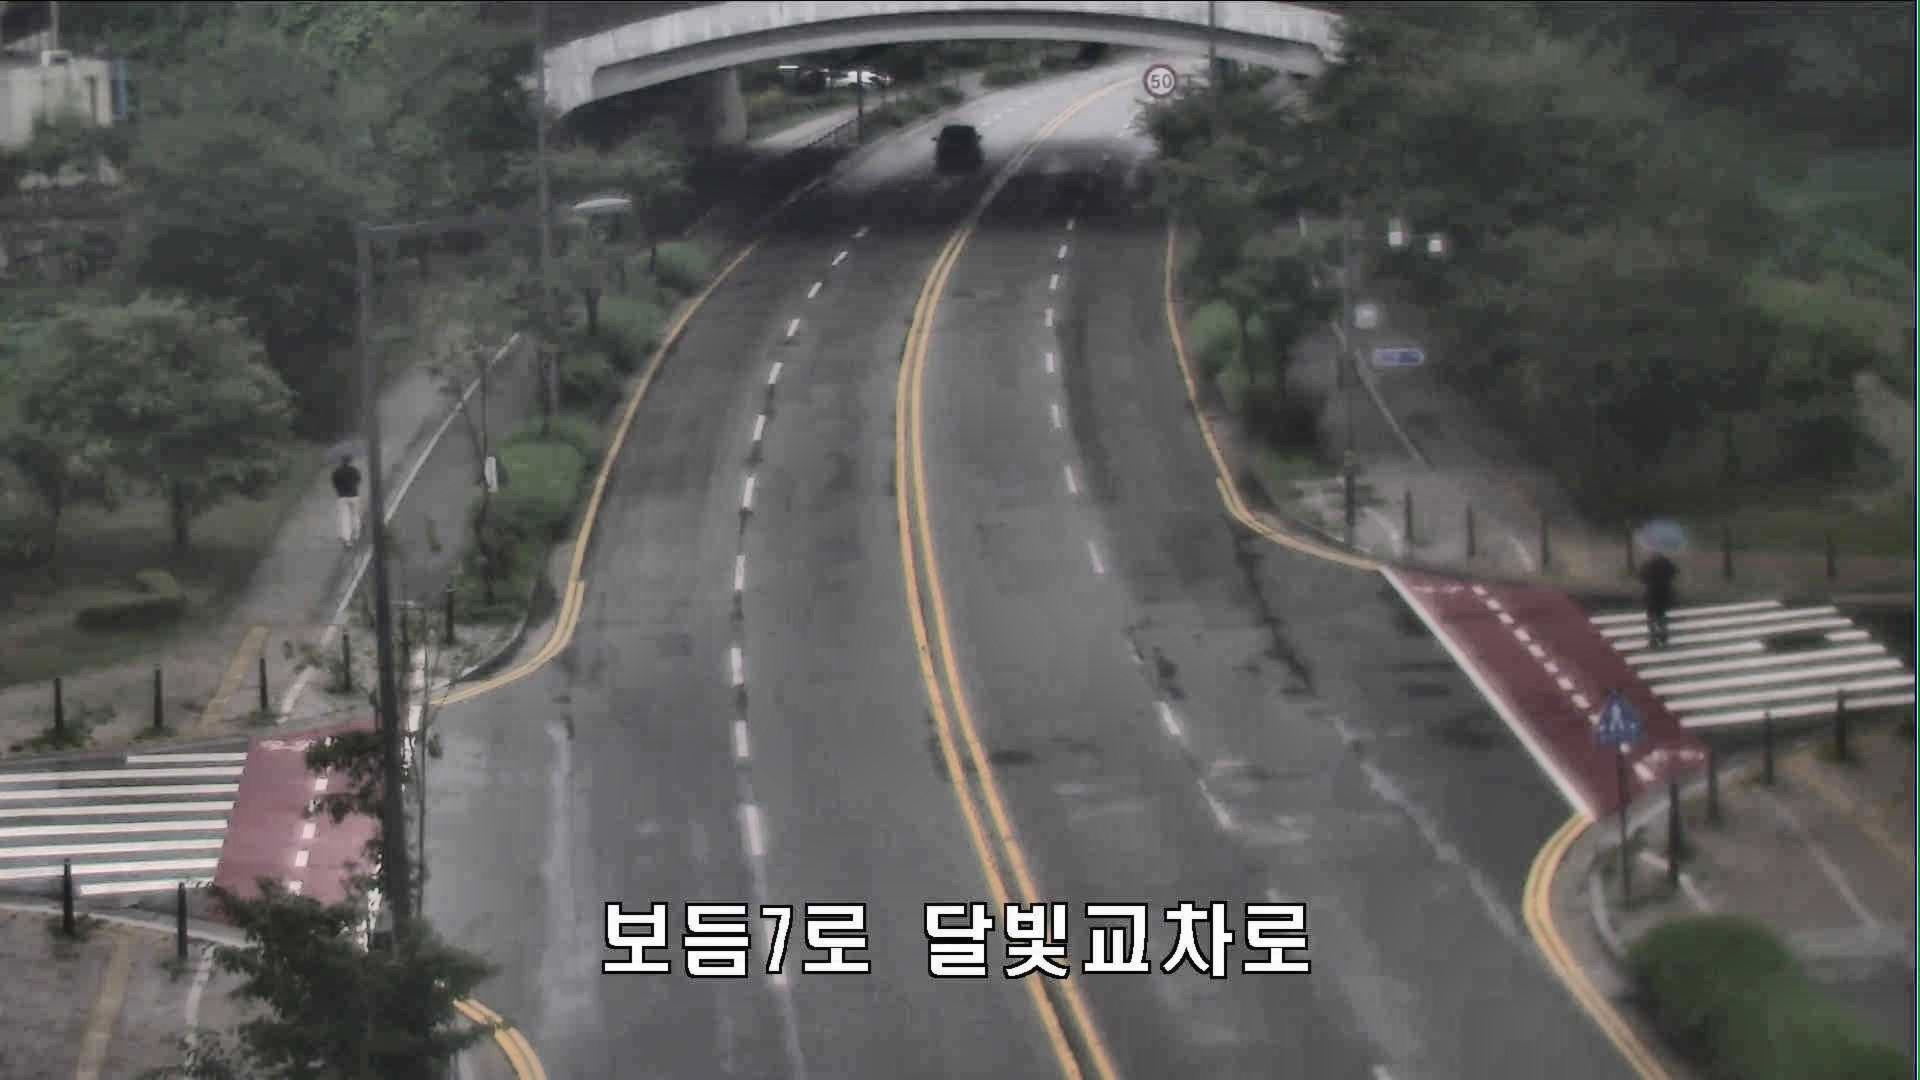um_crosswalk: (1630, 520, 1689, 646)
um_sidewalk: (319, 440, 369, 545)
